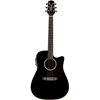guitar: (29, 1, 70, 100)
